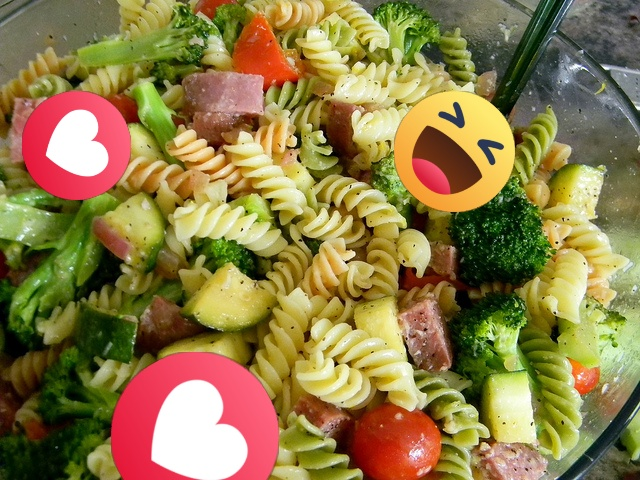haha: (394, 91, 515, 212)
love: (111, 352, 279, 480), (22, 91, 131, 200)
